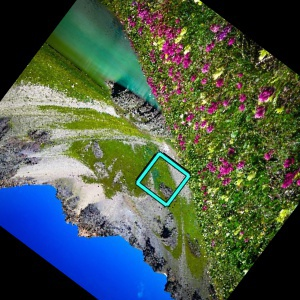square: (133, 149, 195, 209)
